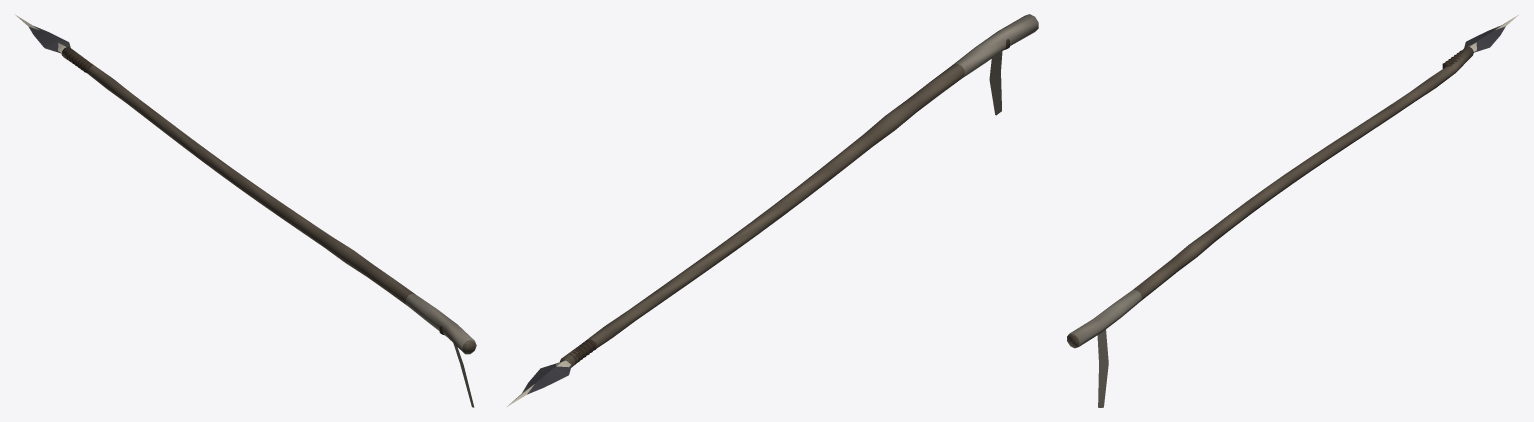
File: spears.glb
The picture shows the model from 3 angles, left to right: view 1: azimuth 30°, elevation 25°; view 2: azimuth 150°, elevation 25°; view 3: azimuth 330°, elevation 25°; orthographic projection. The views are drawn at different scales.
Visible parts, largest first — view 1: spear_stone, spear_bone; view 2: spear_stone, spear_bone; view 3: spear_stone, spear_bone.
Part boxes in pixels (x1,y1,x2,y2): spear_stone: (29,26,475,407); spear_bone: (15,14,476,354); spear_stone: (522,39,1009,394); spear_bone: (506,14,1038,407); spear_stone: (1067,25,1505,407); spear_bone: (1067,15,1518,348).
Bounding box in the file's own units: 0.0722 × 0.1943 × 1.92.
